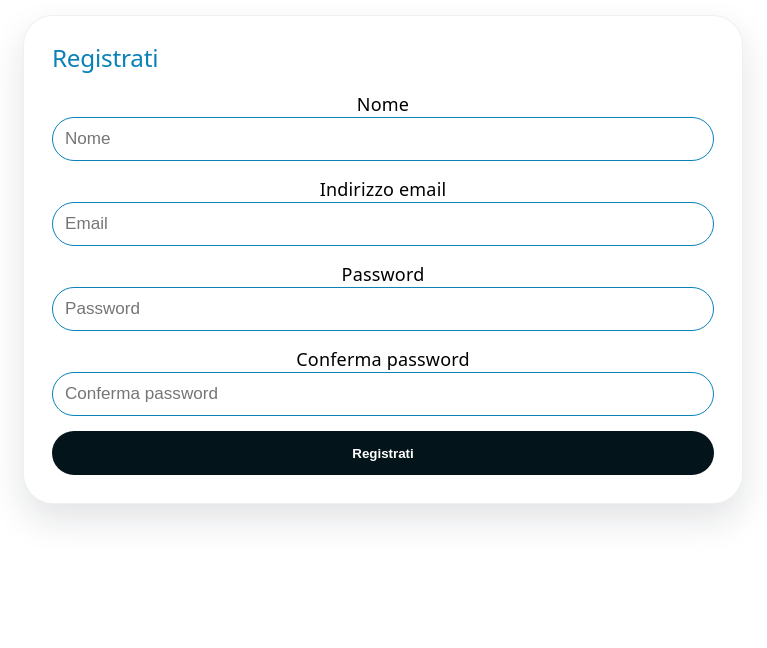
it: RegitrationForm inserimento dati non validi › Password troppo corta
The image size is (767, 648).
Type "pass" into the password field labelled "Password".
click(383, 309); type("pass")  # box [52,287,714,331]
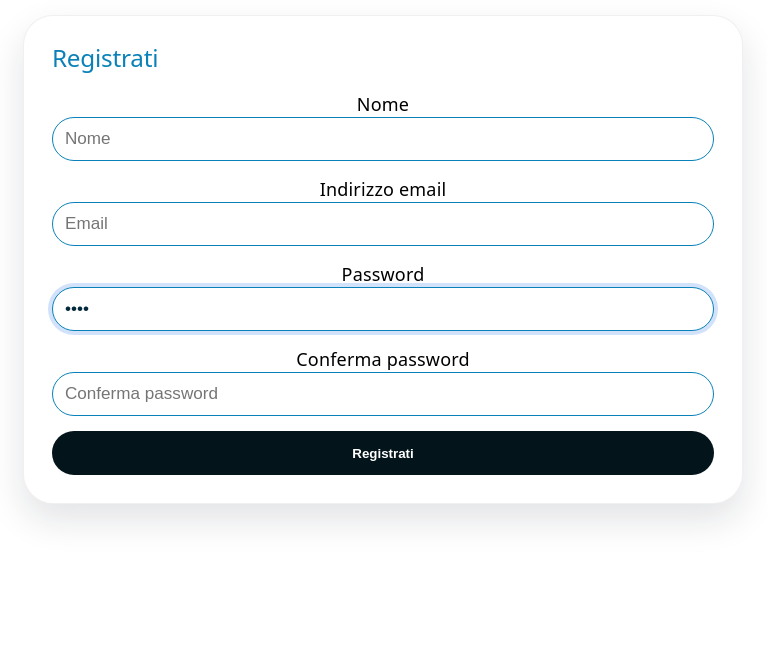
Click the button "Registrati".
click(383, 453)  # box [52,431,714,475]
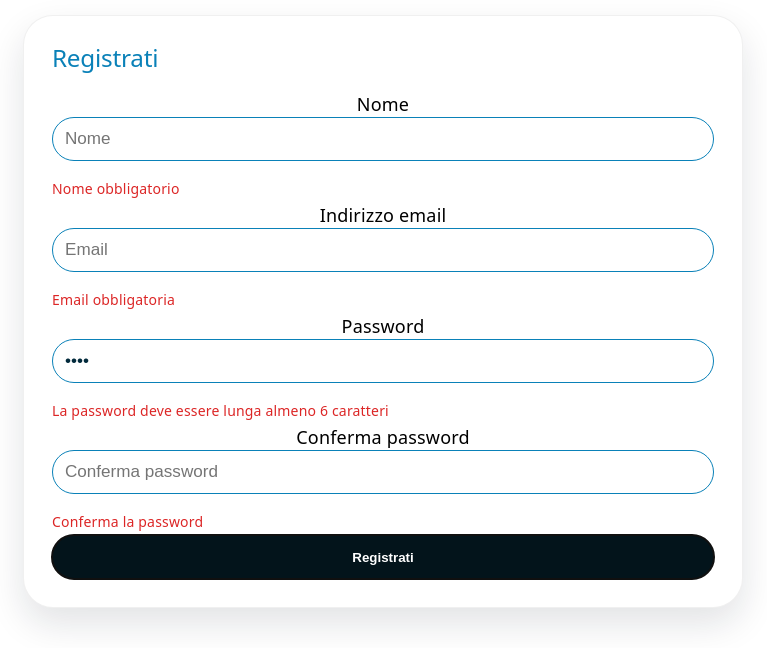
Result: the text "La password deve essere lunga almeno 6 caratteri" is shown at [52,401,389,420]
